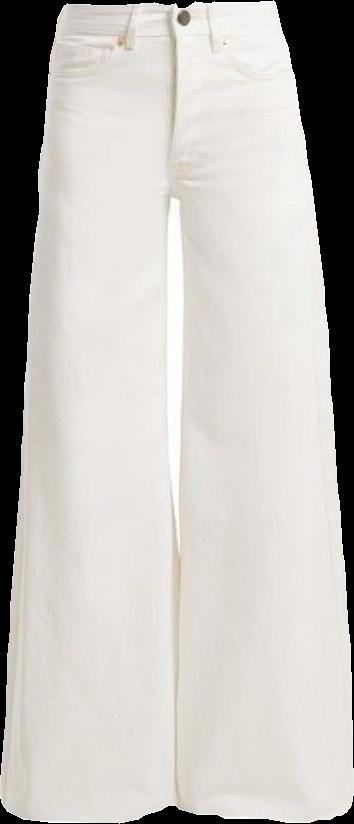Hemline: (175, 797, 353, 823), (0, 799, 179, 823)
Pantleg: (168, 0, 353, 822), (0, 4, 180, 821)
Waistline: (51, 25, 284, 42), (63, 0, 277, 14)
